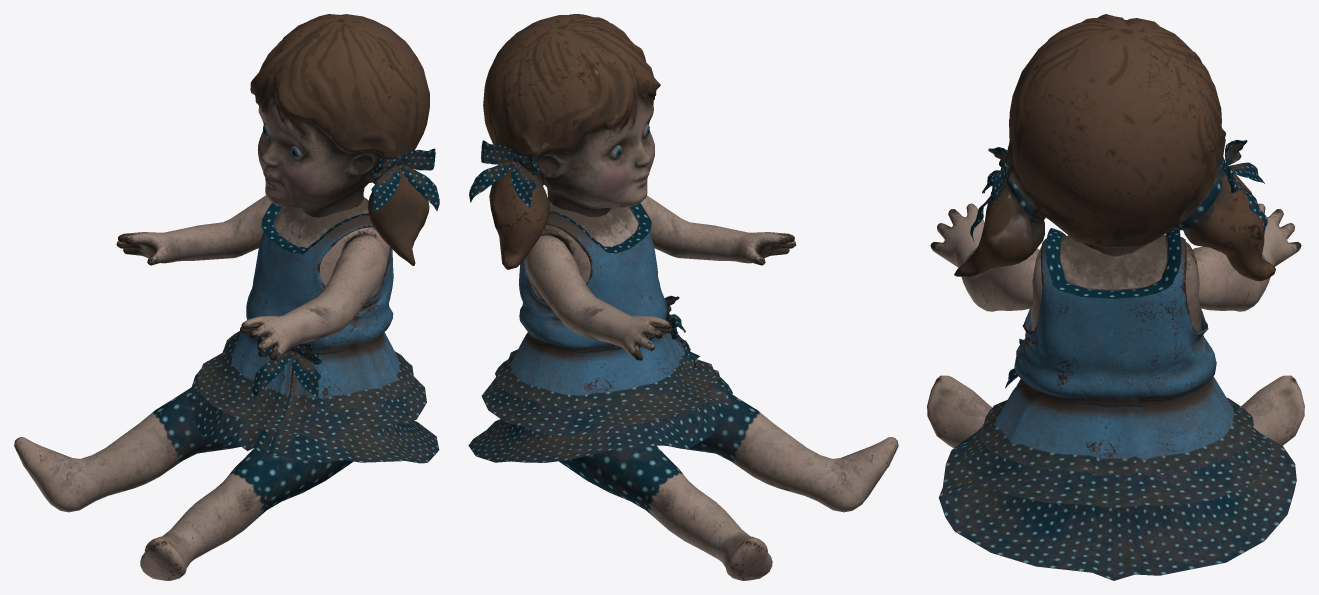
The model's file is SM_Doll_1.fbx.
The picture shows the model from 3 angles, left to right: view 1: azimuth 30°, elevation 25°; view 2: azimuth 150°, elevation 25°; view 3: azimuth 270°, elevation 25°; orthographic projection. The views are drawn at different scales.
Parts seen in each view (by area): view 1: SM_Doll_1; view 2: SM_Doll_1; view 3: SM_Doll_1.
Boxes of the visible parts, x1,y1,x2,y2 form: SM_Doll_1: [14, 14, 439, 580]; SM_Doll_1: [468, 14, 898, 580]; SM_Doll_1: [927, 14, 1304, 580].
Size of the model in its own units: 17.23 by 13.61 by 22.93.
1 material, 1 textured.
